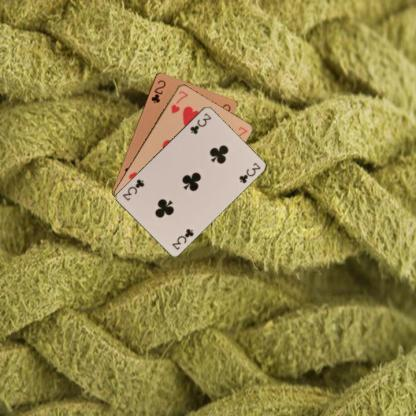2c: (148, 78, 167, 104)
3c: (187, 110, 213, 136), (169, 226, 195, 250)
7h: (168, 88, 190, 115)
